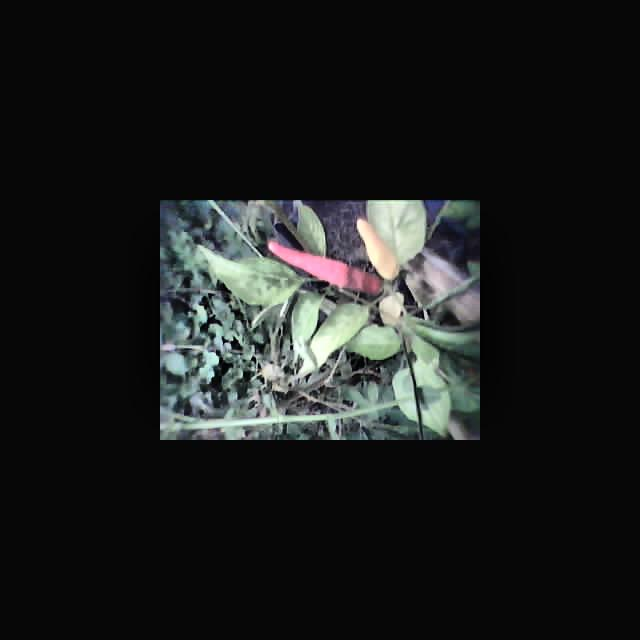Cabai: (260, 242, 359, 298), (354, 216, 410, 266)
